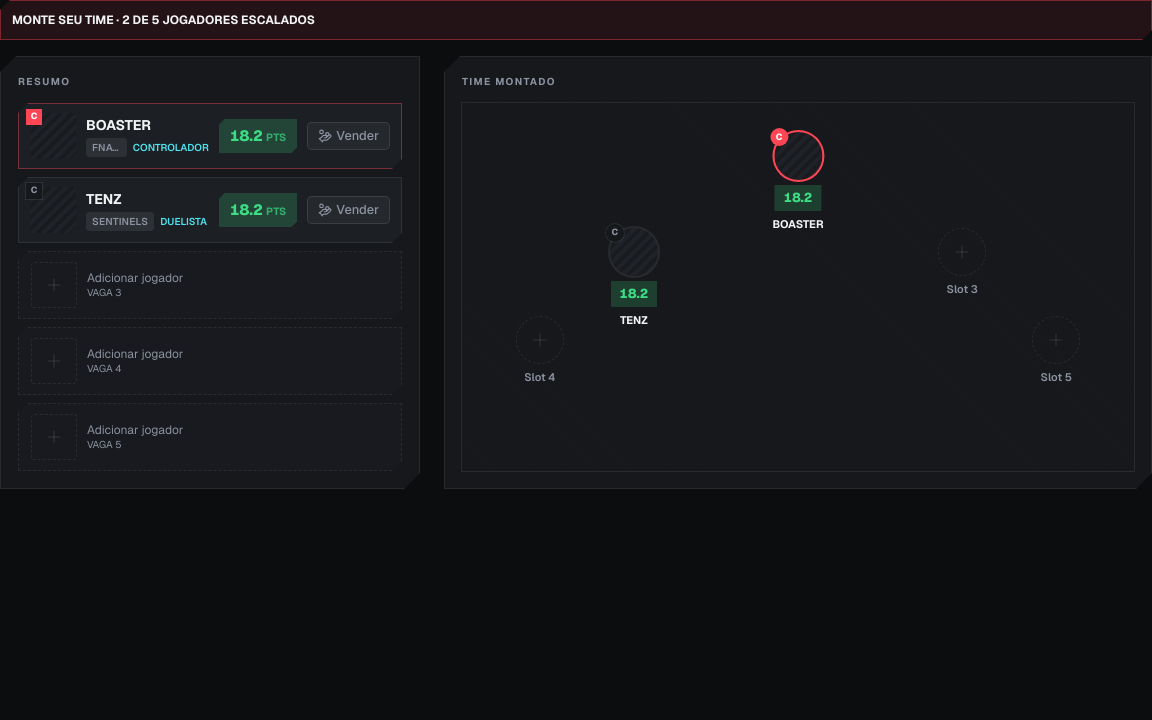
Test: RosterPanel › loadMarket sem jogo marcado: adota o `null` do servidor em vez do fechamento velho da página
The width and height of the screenshot is (1152, 720).
Click the button with aria-label "substituir tenz".
click(192, 210)  # box [86, 189, 297, 231]
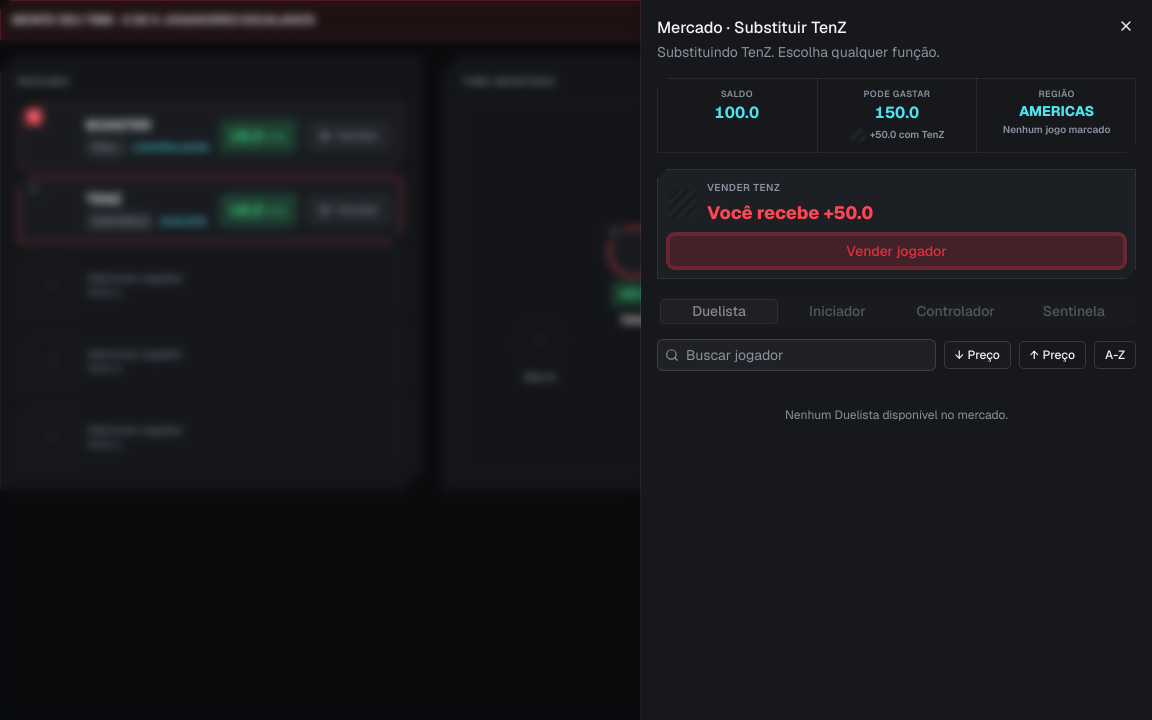
expect the text "Nenhum jogo marcado" is shown: met, box [1003, 123, 1110, 136]
